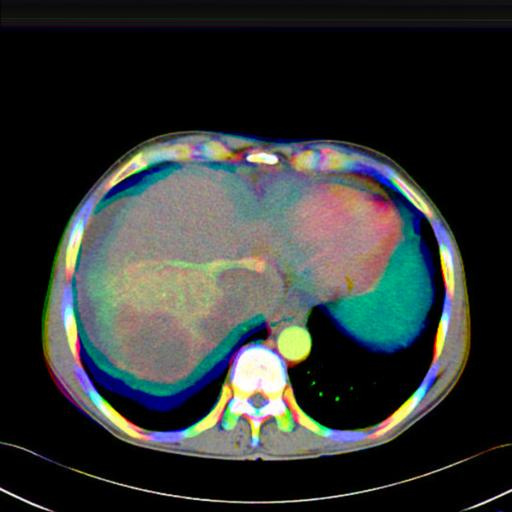Tumor: (115, 306, 198, 382), (198, 268, 282, 336)
